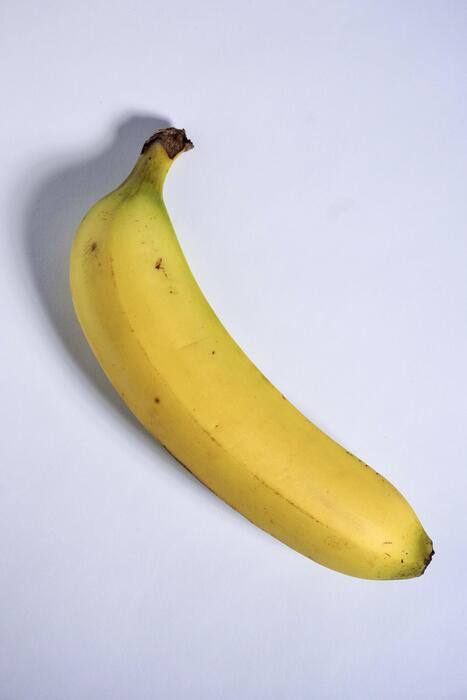banana: (51, 123, 438, 583)
